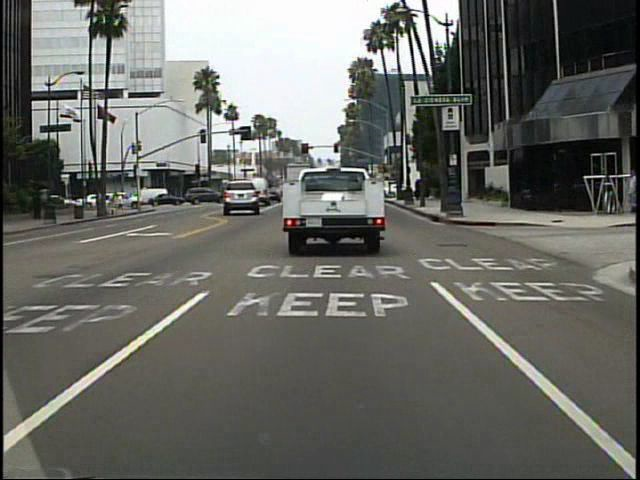person: (626, 169, 635, 214), (116, 189, 129, 214)
